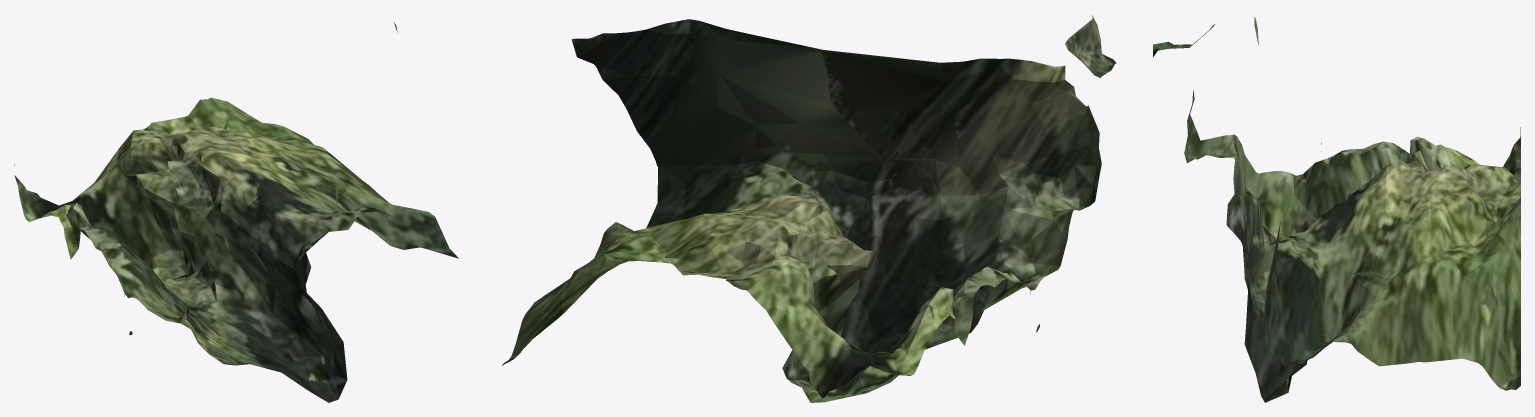
3 renders of one model, left to right at view 1: azimuth 30°, elevation 25°; view 2: azimuth 150°, elevation 25°; view 3: azimuth 270°, elevation 25°, orthographic. The views are drawn at different scales.
Size of the model in its own units: 5.9 by 5.26 by 5.9.
4 materials, 4 textured.
